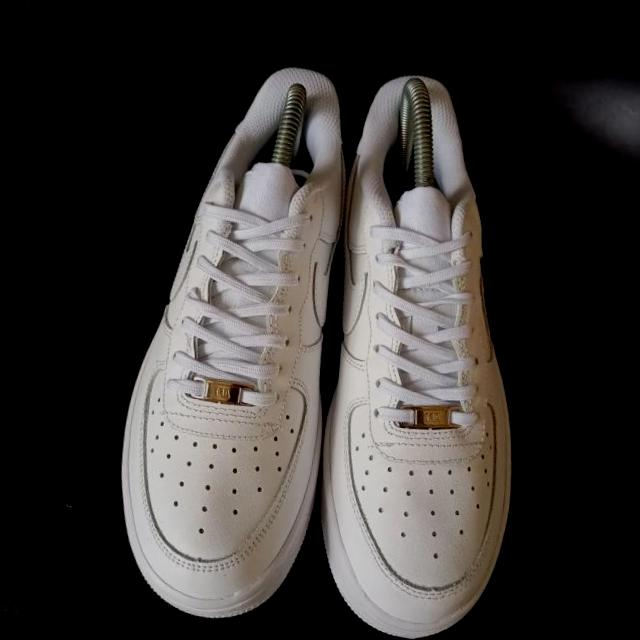nike_fake_airforce: (102, 51, 353, 638), (306, 73, 552, 640)
